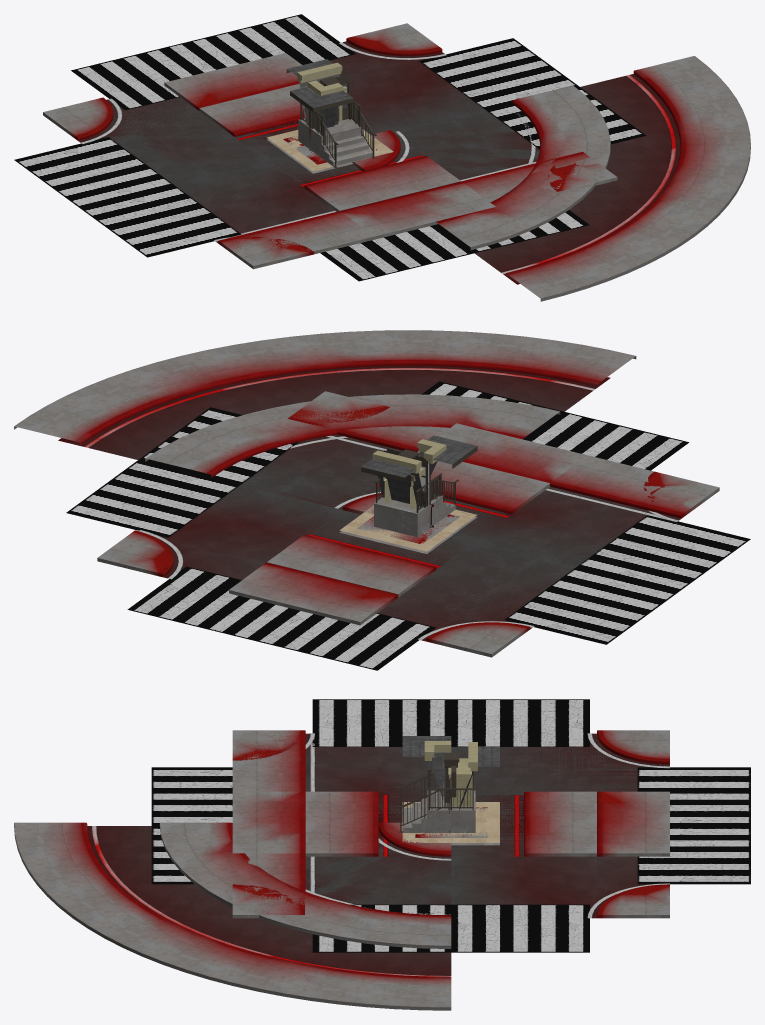
Rendered from kit_stone.glb.
The picture shows the model from 3 angles, top to bottom: view 1: azimuth 30°, elevation 25°; view 2: azimuth 150°, elevation 25°; view 3: azimuth 270°, elevation 25°; orthographic projection. The views are drawn at different scales.
Parts seen in each view (by area): view 1: Street_4WayIntersection, Street_Curve_4LaneShort, Street_Asphalt_Curve_4Lane_Short, Street_Curve_2Lane, Street_4Lane, Street_2Lane, Street_Asphalt_9x9, Street_TIntersection, Street_Asphalt_Curve_2Lane, Roof_SlateCornice_InnerCorner, Floor_4x4, Stairs_Entrance_Concrete (+4 smaller); view 2: Street_4WayIntersection, Street_Curve_4LaneShort, Street_Asphalt_Curve_4Lane_Short, Street_Curve_2Lane, Street_4Lane, Street_2Lane, Street_TIntersection, Street_Asphalt_Curve_2Lane, Street_Asphalt_9x9, Floor_4x4, Roof_SlateCornice_Center, Entrance_Concrete_2x2 (+2 smaller); view 3: Street_4WayIntersection, Street_Curve_4LaneShort, Street_Asphalt_Curve_4Lane_Short, Street_Curve_2Lane, Street_2Lane, Street_4Lane, Street_TIntersection, Street_Asphalt_9x9, Street_Asphalt_Curve_2Lane, Floor_4x4, Roof_SlateCornice_InnerCorner, Entrance_Concrete_2x2 (+5 smaller).
Part boxes in pixels (<box>): Street_4WayIntersection: <box>14,14,646,281</box>; Street_Curve_4LaneShort: <box>501,56,750,301</box>; Street_Asphalt_Curve_4Lane_Short: <box>417,74,680,284</box>; Street_Curve_2Lane: <box>352,85,610,250</box>; Street_4Lane: <box>164,53,495,239</box>; Street_2Lane: <box>199,84,460,211</box>; Street_Asphalt_9x9: <box>93,97,285,185</box>; Street_TIntersection: <box>218,151,605,268</box>; Street_Asphalt_Curve_2Lane: <box>420,114,537,179</box>; Roof_SlateCornice_InnerCorner: <box>290,80,353,127</box>; Floor_4x4: <box>267,129,393,173</box>; Stairs_Entrance_Concrete: <box>311,130,372,166</box>; Street_4WayIntersection: <box>66,381,750,670</box>; Street_Curve_4LaneShort: <box>14,330,636,447</box>; Street_Asphalt_Curve_4Lane_Short: <box>58,365,610,509</box>; Street_Curve_2Lane: <box>145,394,560,514</box>; Street_4Lane: <box>229,423,587,625</box>; Street_2Lane: <box>267,451,549,597</box>; Street_TIntersection: <box>287,395,719,521</box>; Street_Asphalt_Curve_2Lane: <box>271,435,388,509</box>; Street_Asphalt_9x9: <box>436,547,570,623</box>; Floor_4x4: <box>339,505,477,553</box>; Roof_SlateCornice_Center: <box>361,450,425,507</box>; Entrance_Concrete_2x2: <box>374,494,442,537</box>; Street_4WayIntersection: <box>151,699,750,952</box>; Street_Curve_4LaneShort: <box>14,822,451,1010</box>; Street_Asphalt_Curve_4Lane_Short: <box>87,826,451,975</box>; Street_Curve_2Lane: <box>159,822,451,948</box>; Street_2Lane: <box>305,791,596,856</box>; Street_4Lane: <box>232,791,669,856</box>; Street_TIntersection: <box>232,730,315,918</box>; Street_Asphalt_9x9: <box>451,734,669,825</box>; Street_Asphalt_Curve_2Lane: <box>305,838,451,904</box>; Floor_4x4: <box>402,802,499,845</box>; Roof_SlateCornice_InnerCorner: <box>402,736,451,799</box>; Entrance_Concrete_2x2: <box>427,790,475,832</box>.
Bounding box in the file's own units: 30.33 × 3.4 × 30.33.
Materials: 10 (8 with a texture image).
